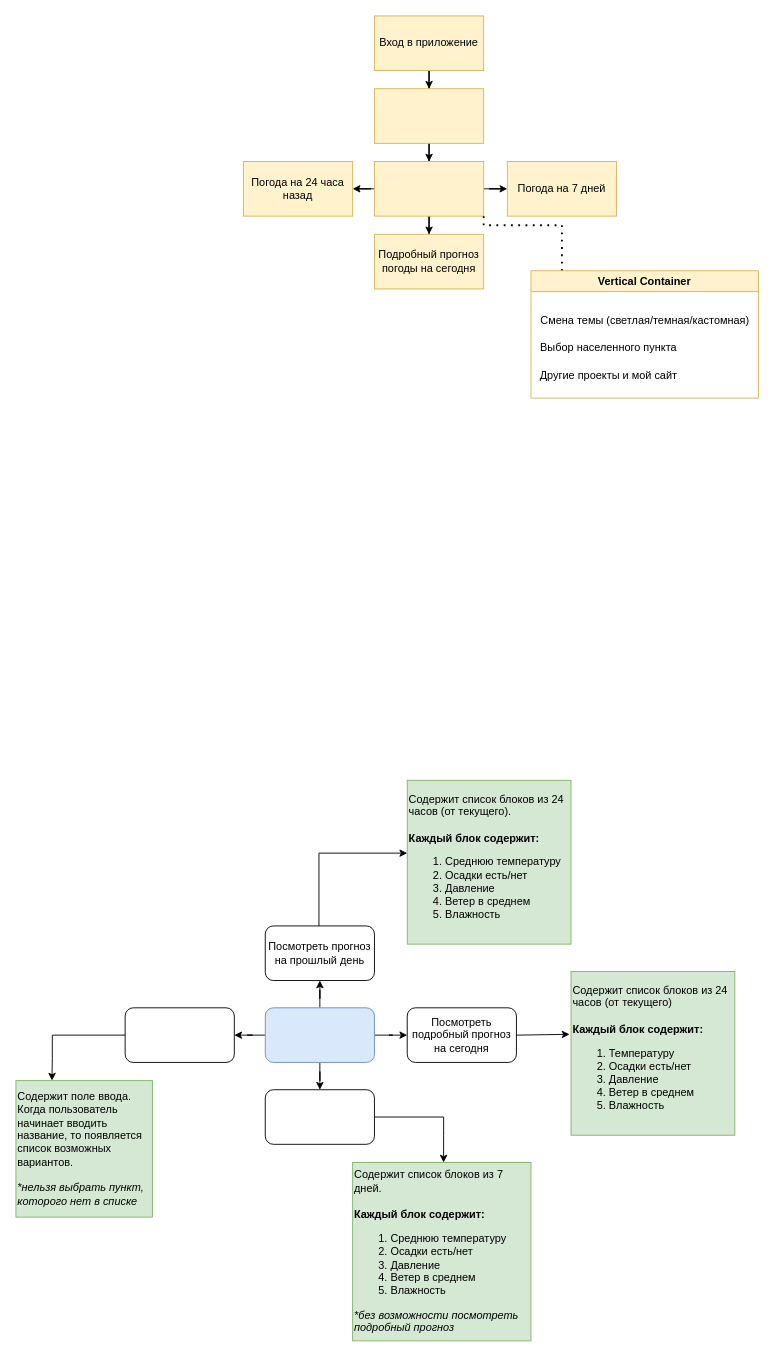
The diagram is 774 pixels wide and 1357 high, and some of its shapes have lost their labels. Here are the shapes that lost their labels. From the top down, the centre of each, then its label:
the point at 429,115: Заставка
the point at 429,188: Главная (погода на 24 часа вперд)
the point at 179,1034: Выбрать местоположение
the point at 319,1034: Weather API app
the point at 319,1116: Посмотреть прогноз на неделю
